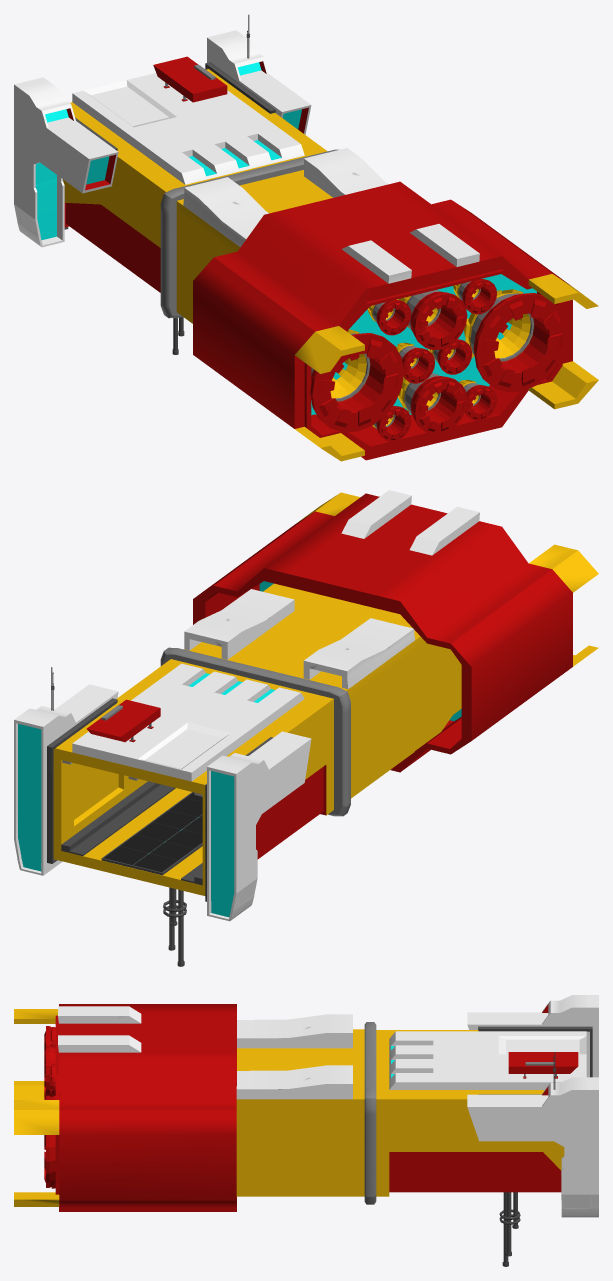
The model's file is Ship_Hull.fbx.
The picture shows the model from 3 angles, top to bottom: view 1: azimuth 30°, elevation 25°; view 2: azimuth 150°, elevation 25°; view 3: azimuth 270°, elevation 25°; orthographic projection. The views are drawn at different scales.
Visible parts, largest first — view 1: Back_Thruster_Base, Station_Hull_Base, Front_Attachment_2, Engine_2, Engine_1, Front_Attachment_3, Engine_4, Engine_3, Engine_7 (×2), Top_Cubey_Thingy, Engine_8 (×2), Engine_5 (+1 smaller); view 2: Station_Hull_Base, Back_Thruster_Base, Front_Attachment_2, Front_Attachment_3, pCube3, Top_Cubey_Thingy; view 3: Station_Hull_Base, Back_Thruster_Base, Front_Attachment_3, Front_Attachment_2, Top_Cubey_Thingy, Engine_2, Engine_3.
Boxes of the visible parts, <box> form: Back_Thruster_Base: <box>193,181,598,461</box>; Station_Hull_Base: <box>63,69,388,323</box>; Front_Attachment_2: <box>14,77,118,247</box>; Engine_2: <box>464,289,567,392</box>; Engine_1: <box>310,329,403,432</box>; Front_Attachment_3: <box>205,30,311,134</box>; Engine_4: <box>398,373,467,434</box>; Engine_3: <box>396,290,467,349</box>; Engine_7 (×2): <box>367,279,496,335</box>; Top_Cubey_Thingy: <box>153,56,227,102</box>; Engine_8 (×2): <box>372,379,496,441</box>; Engine_5: <box>395,342,434,383</box>; Station_Hull_Base: <box>53,583,461,895</box>; Back_Thruster_Base: <box>193,490,598,772</box>; Front_Attachment_2: <box>205,731,311,921</box>; Front_Attachment_3: <box>14,684,118,875</box>; pCube3: <box>101,792,202,875</box>; Top_Cubey_Thingy: <box>86,699,160,742</box>; Station_Hull_Base: <box>236,1014,586,1204</box>; Back_Thruster_Base: <box>14,1004,236,1211</box>; Front_Attachment_3: <box>467,1077,598,1217</box>; Front_Attachment_2: <box>467,995,598,1077</box>; Top_Cubey_Thingy: <box>508,1052,578,1078</box>; Engine_2: <box>44,1096,55,1187</box>; Engine_3: <box>44,1045,55,1096</box>.
Bounding box in the file's own units: 34.2 × 34.47 × 71.14.
Materials: 2 (1 with a texture image).
